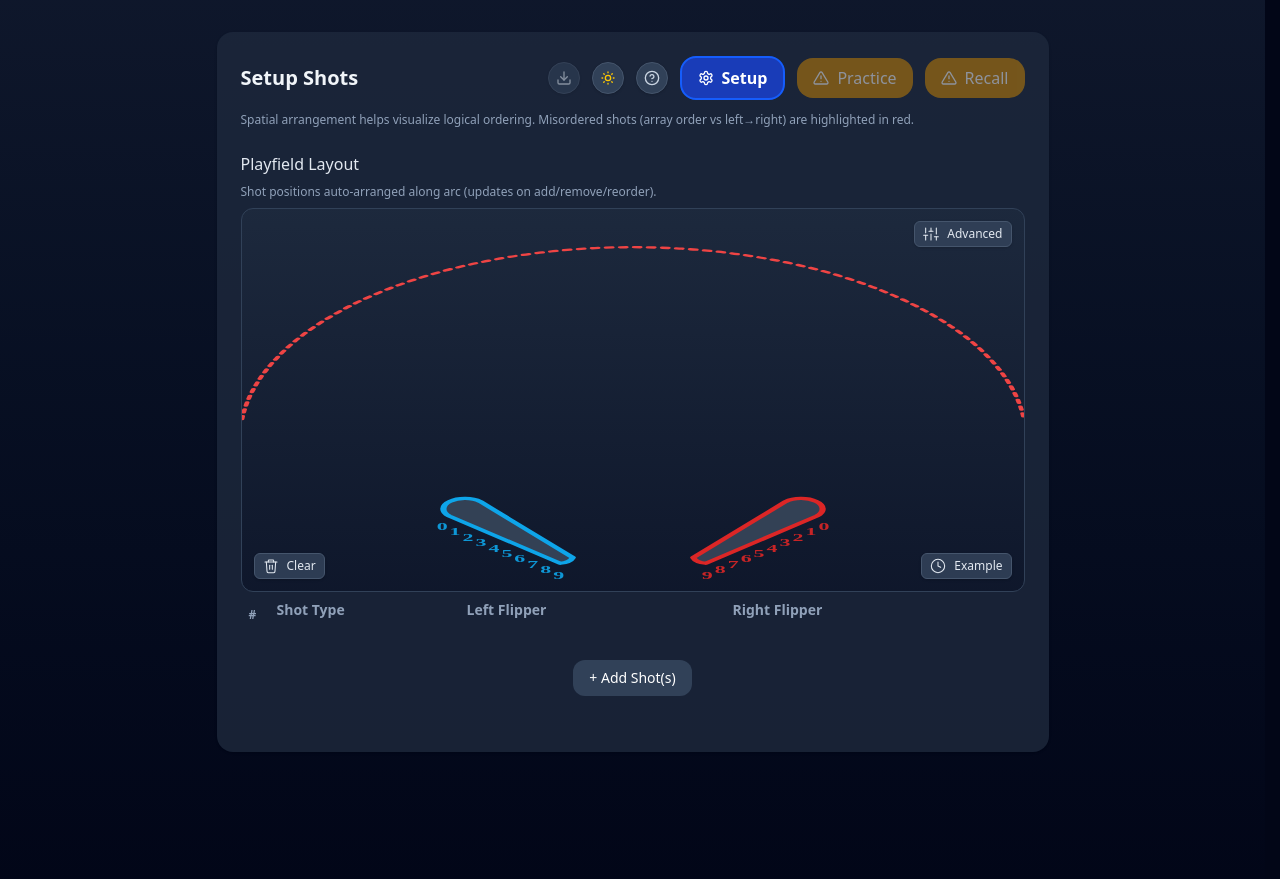
Scenario: App - Recall Mode Tests › should enter recall mode from setup
expect the heading "Setup Shots" is shown: met, box [240,64,358,92]
Step 1. Click the button with aria-label "load example shots" → coordinates (966, 566), box [921,553,1012,579]
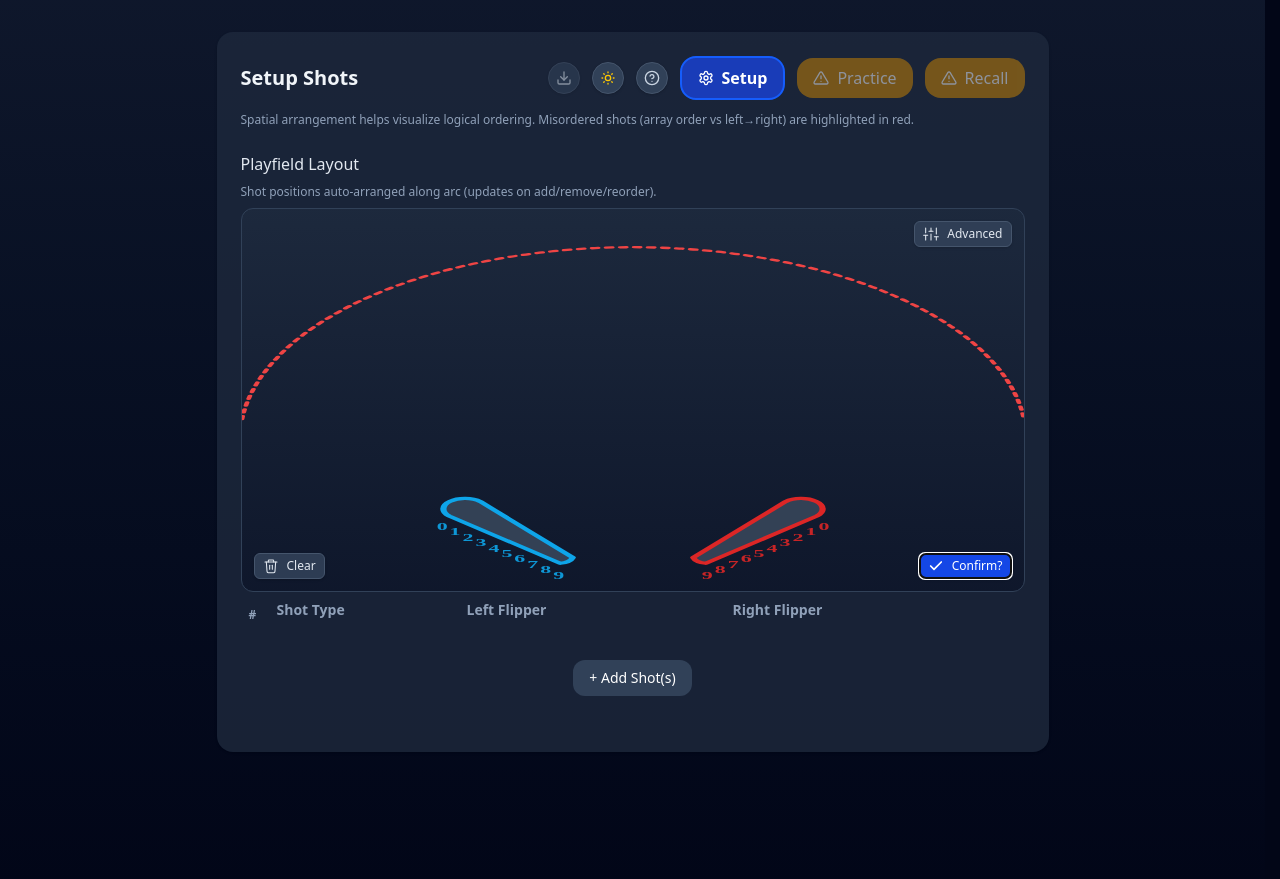
Step 2. Click the button with aria-label "confirm load example shots" → coordinates (965, 566), box [919,553,1012,579]
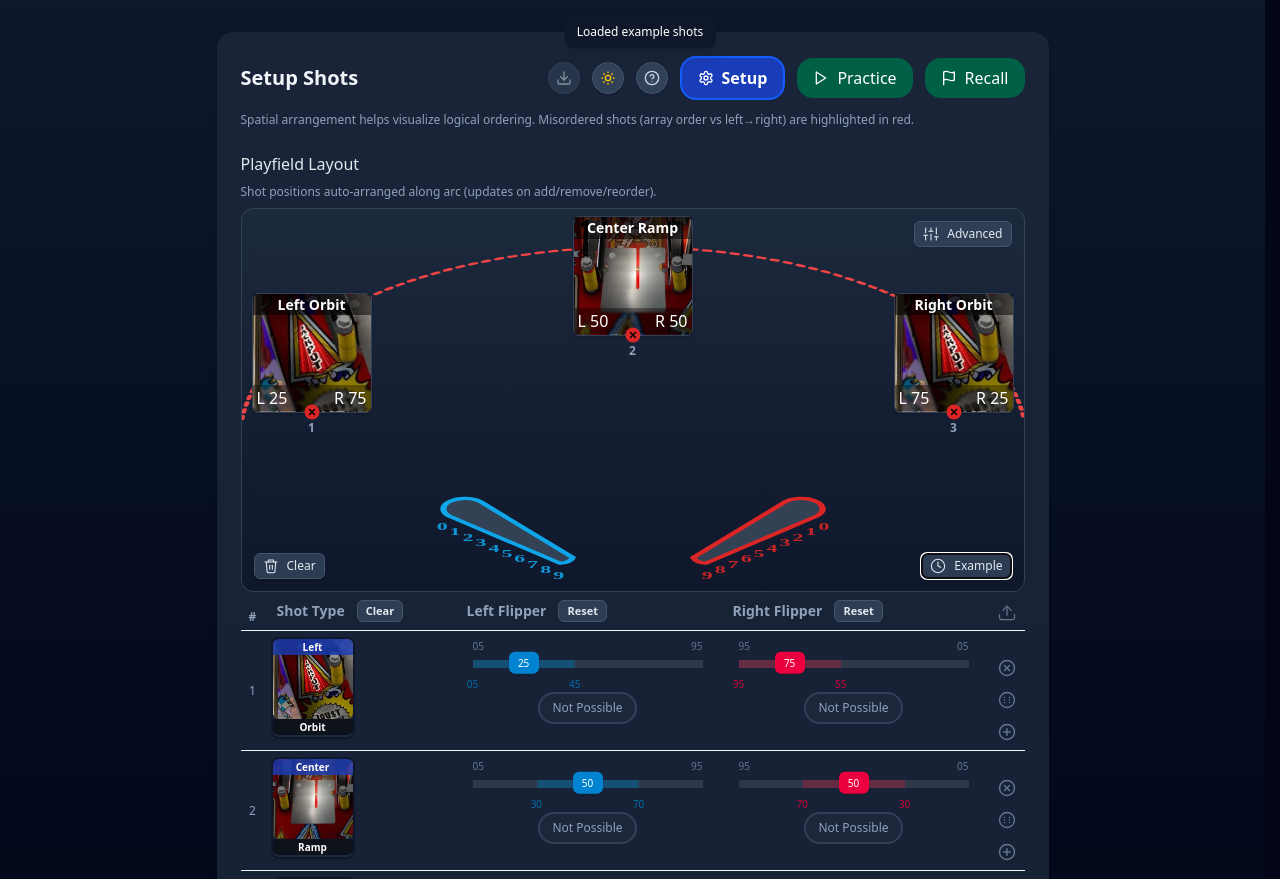
Step 3. Click the button "Recall" → coordinates (975, 78), box [925,58,1024,98]
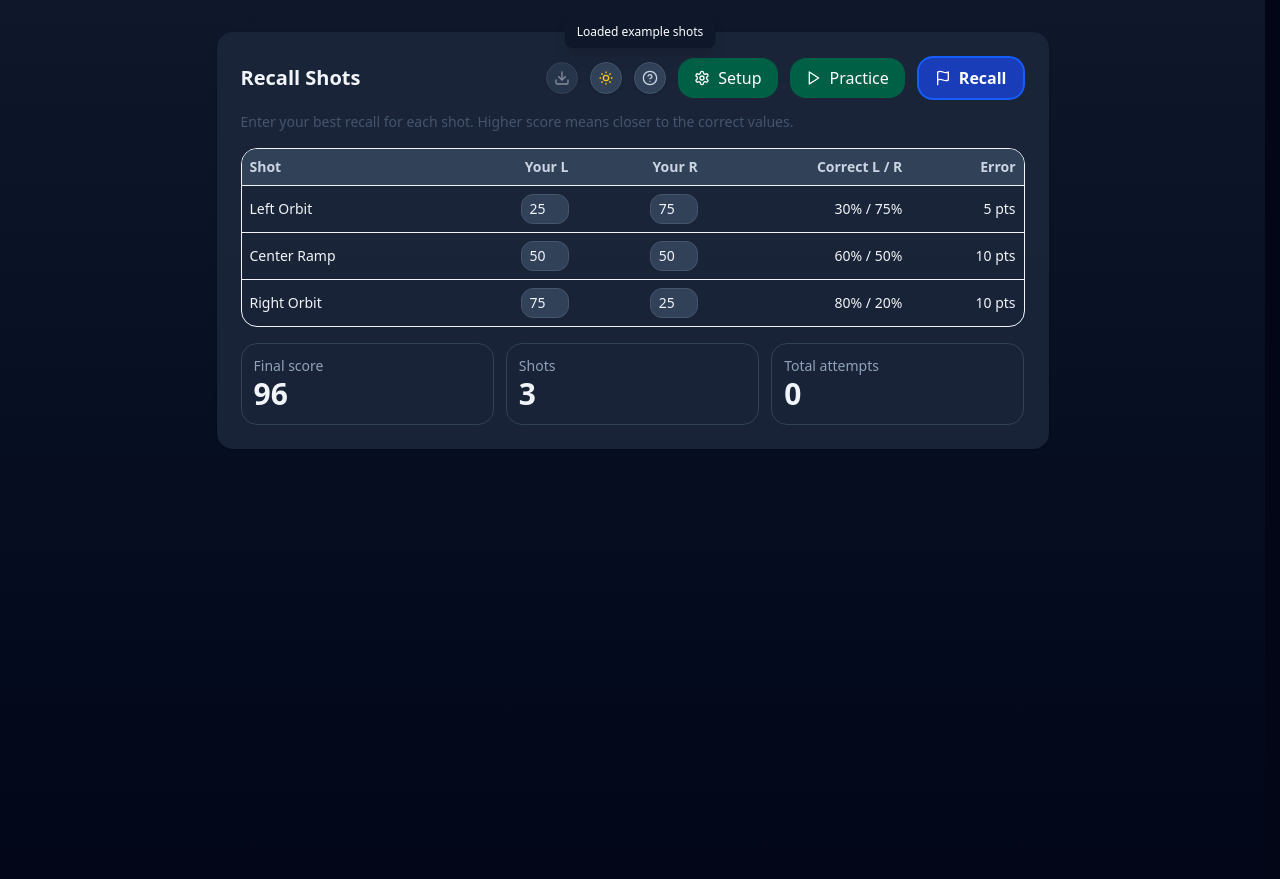
expect the button named "Download standalone" is shown: met, box [546,62,578,94]
expect the heading "Setup Shots" is gone: met
